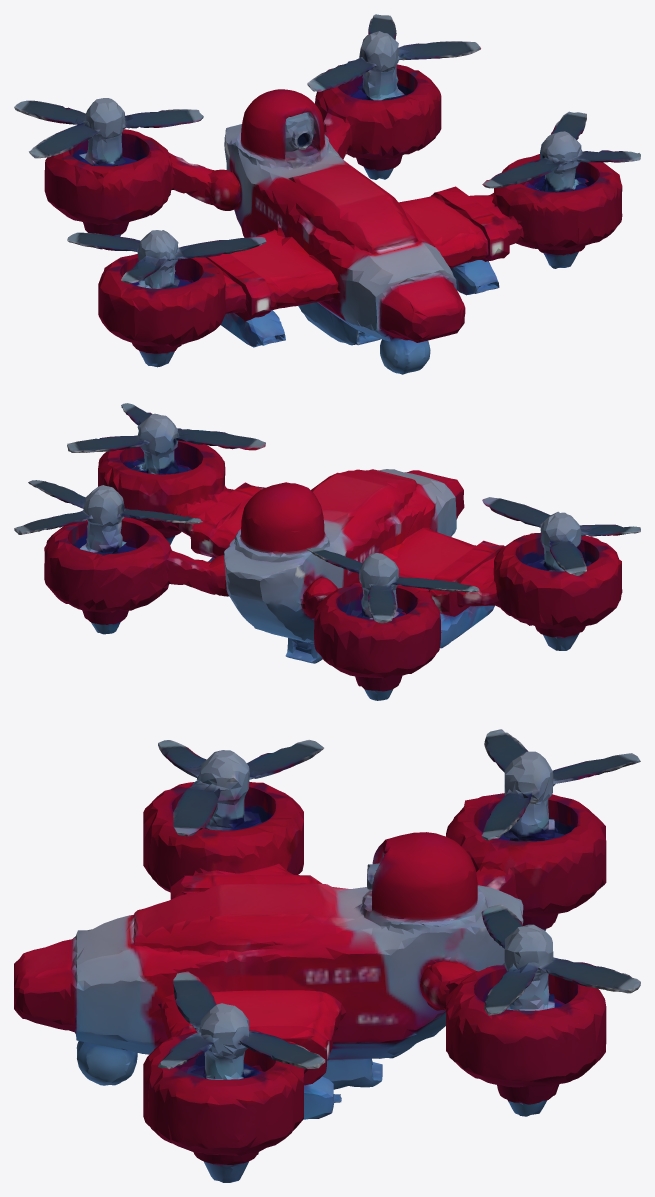
Rendered from Drone.fbx.
The picture shows the model from 3 angles, top to bottom: view 1: azimuth 30°, elevation 25°; view 2: azimuth 150°, elevation 25°; view 3: azimuth 270°, elevation 25°; orthographic projection. The views are drawn at different scales.
Visible parts, largest first — view 1: DroneRaw; view 2: DroneRaw; view 3: DroneRaw.
Boxes of the visible parts, box(x1,y1,x2,y2) form: DroneRaw: box(14, 14, 640, 374); DroneRaw: box(14, 403, 640, 700); DroneRaw: box(14, 729, 640, 1182).
Bounding box in the file's own units: 0.13 × 0.0462 × 0.105.
Materials: 1 (1 with a texture image).
